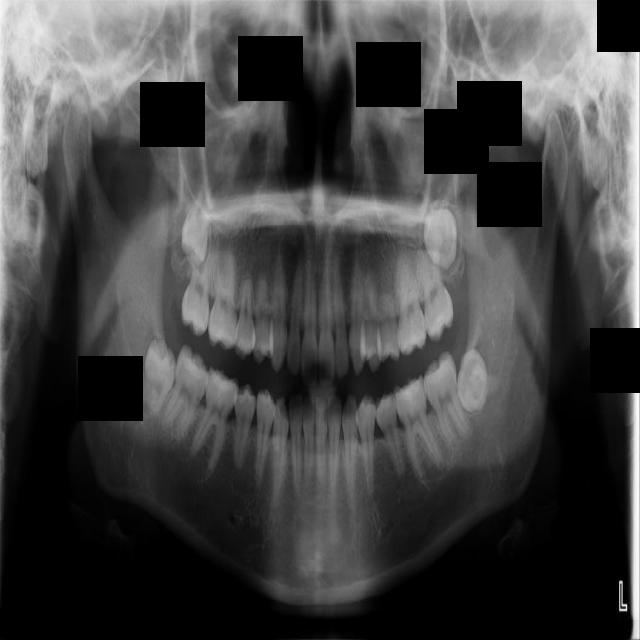3M ESPE Implant: (175, 172, 219, 270)
73: (618, 590, 629, 604)
BioHorizons Implant: (411, 239, 459, 345)
BioLife Implant: (421, 194, 459, 271)
Biomet 3i Implant: (454, 347, 492, 414)
Blue Sky Bio Implant: (417, 350, 472, 450)
Caries: (179, 243, 215, 338)
Implant: (158, 344, 216, 442)
Keystone Dental Implant: (132, 335, 185, 419)
